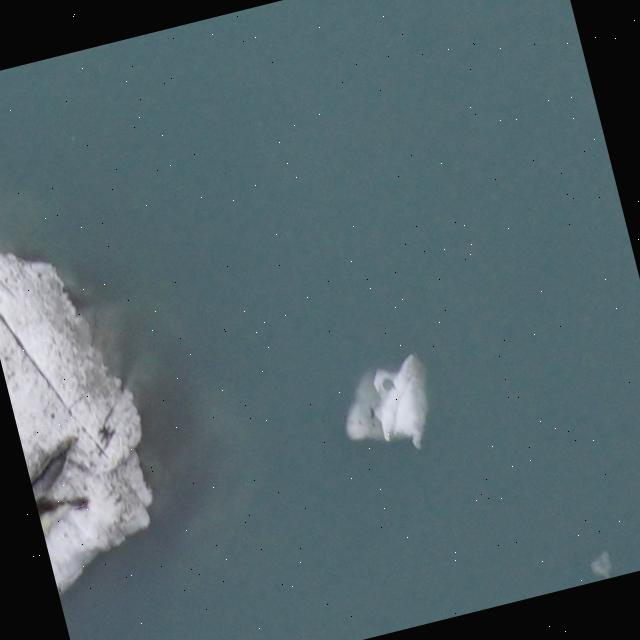seal: (22, 432, 98, 518), (34, 483, 102, 548)
